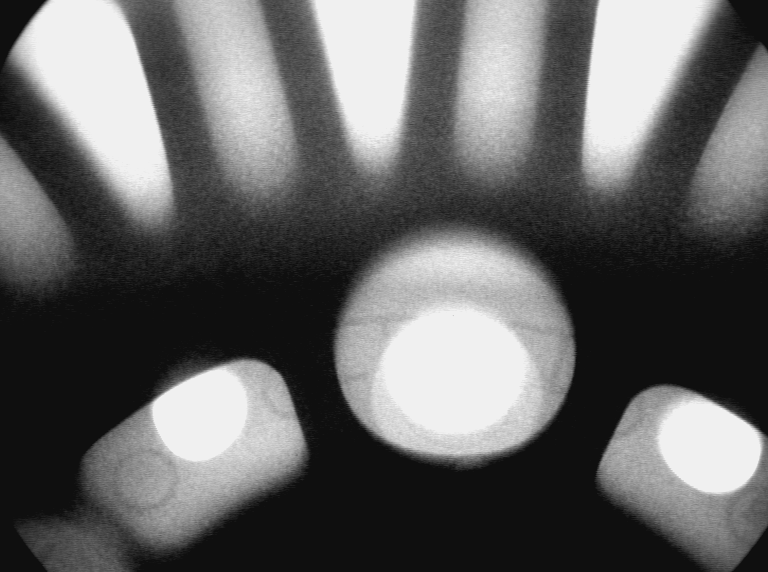defect: (453, 447, 488, 474)
